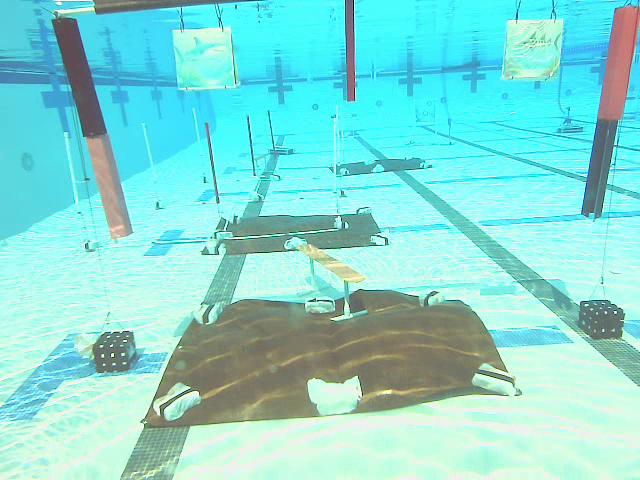black_poster: (204, 122, 221, 201), (245, 116, 260, 176), (265, 112, 281, 152)
divider: (344, 0, 359, 102)
left_gate_poster: (52, 19, 133, 241)
right_gate_poster: (581, 5, 638, 221)
shark: (171, 31, 236, 89)
swordfish: (505, 22, 565, 84)
